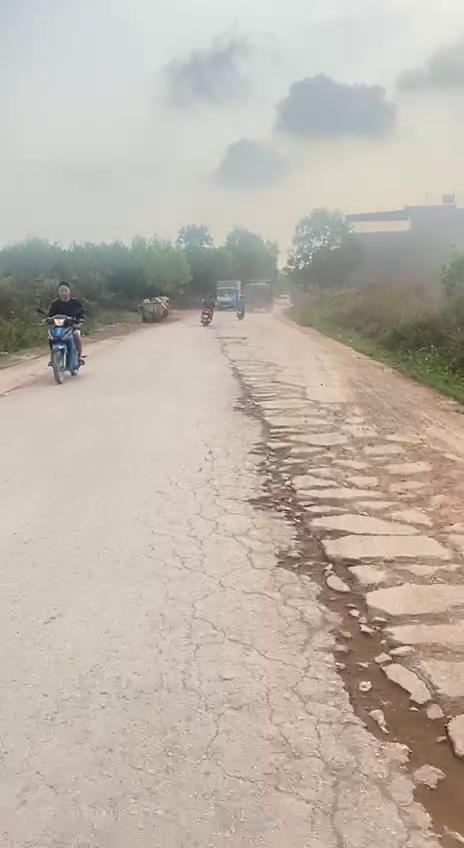pothole: (325, 599, 464, 848), (258, 478, 402, 604), (237, 396, 350, 490)
